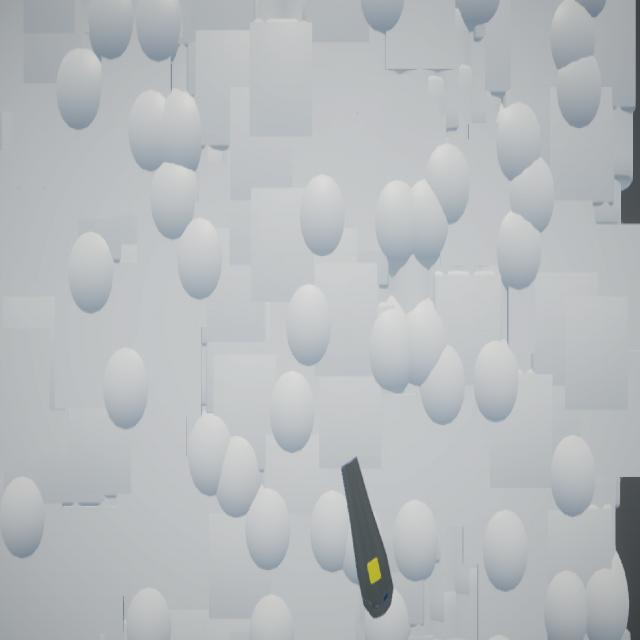handle_knife: (342, 458, 395, 620)
